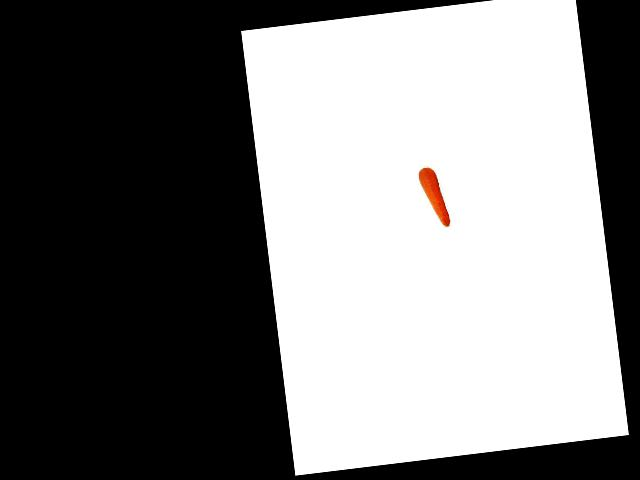carrot: (414, 150, 456, 233)
